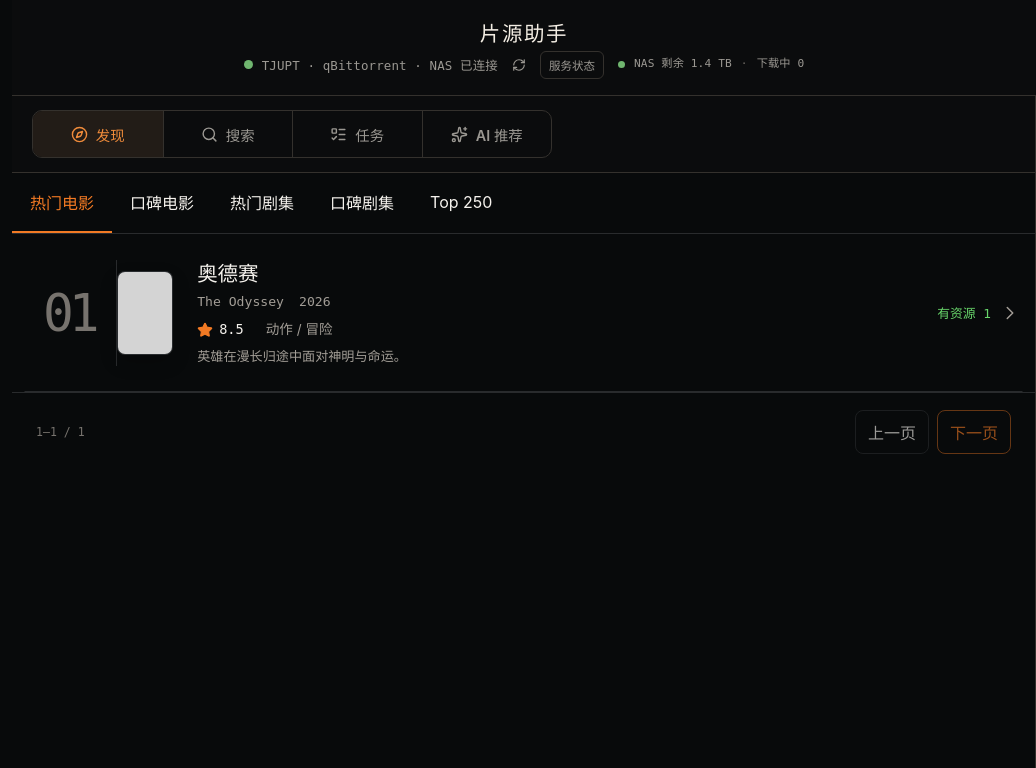
Scenario: 片源助手客户端 › marks a work as seen and unmarks it from the shared history
The width and height of the screenshot is (1036, 768).
Click the button with aria-label "奥德赛，第 1 名" at (524, 313), box left=24, top=234, right=1023, bottom=392
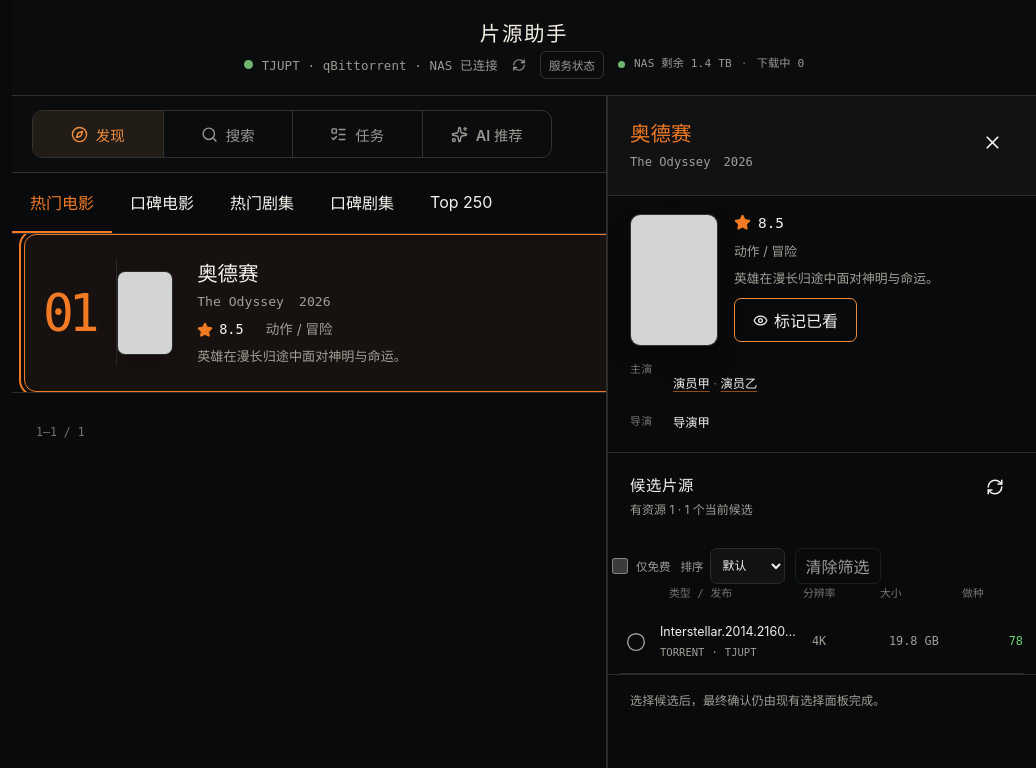
Click the button "标记已看" at (796, 320), box left=734, top=298, right=857, bottom=342
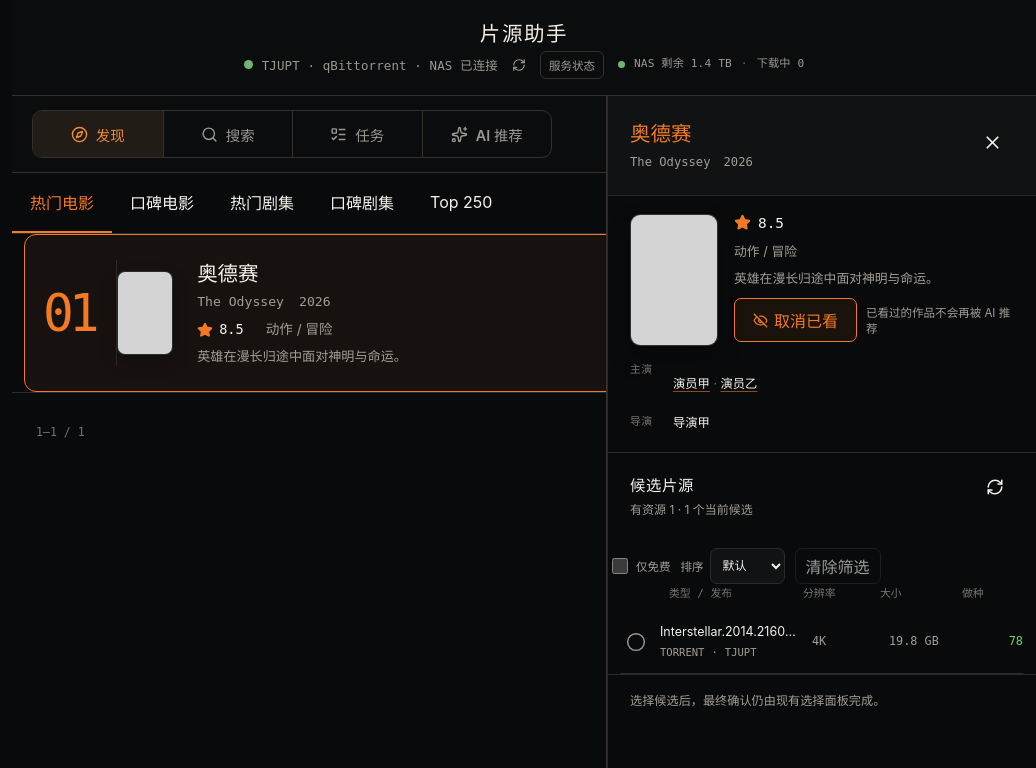
Now the button "取消已看" is shown
Click the button "取消已看" at (796, 320), box left=734, top=298, right=857, bottom=342
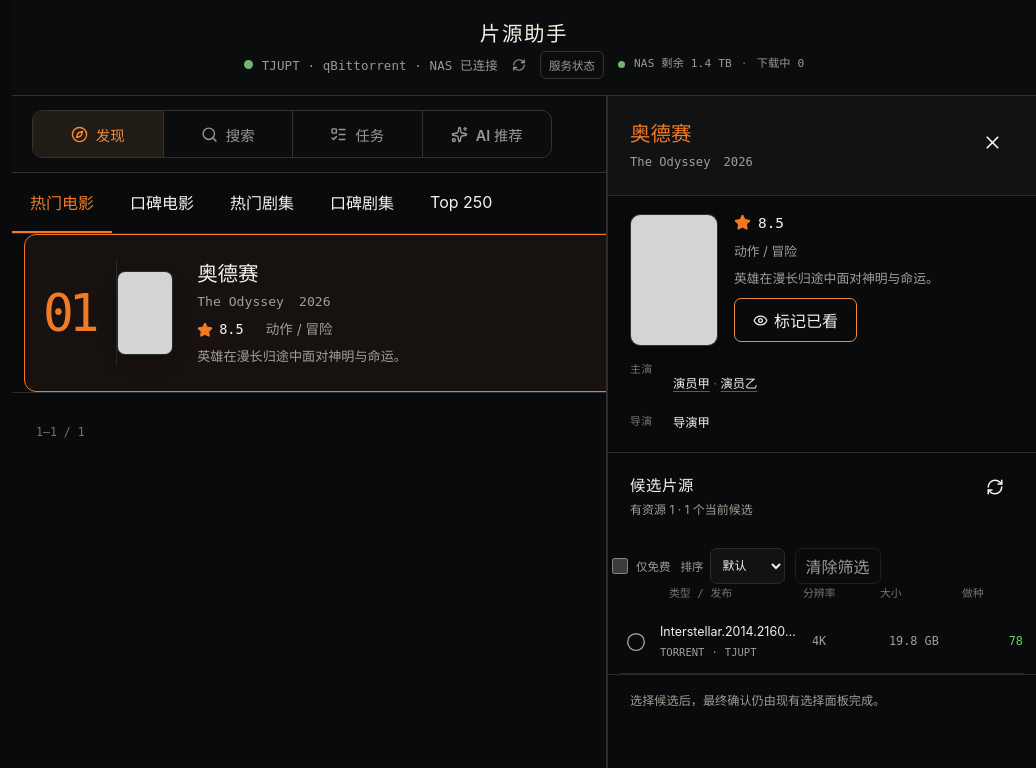
Now the button "标记已看" is shown, box left=734, top=298, right=857, bottom=342
